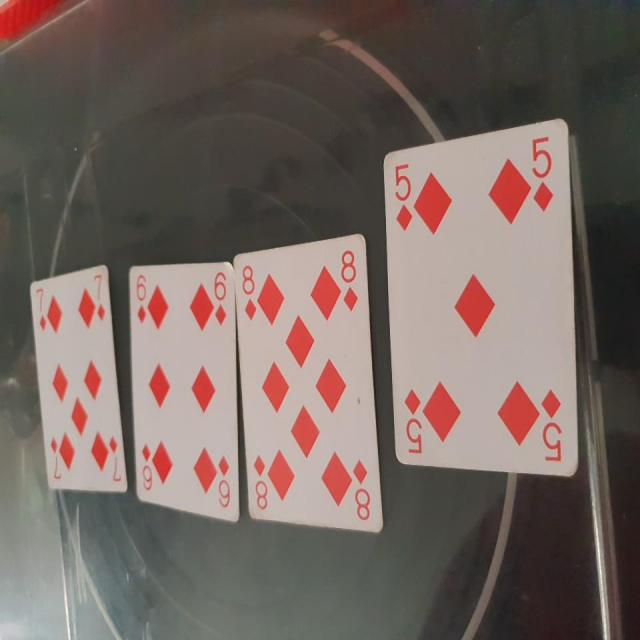5 Diamonds: (379, 110, 582, 476)
6 Diamonds: (126, 258, 243, 525)
7 Diamonds: (29, 264, 128, 492)
8 Diamonds: (233, 229, 388, 537)
